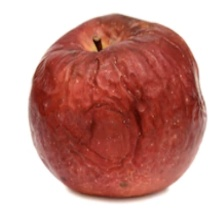apple: (11, 14, 174, 205)
